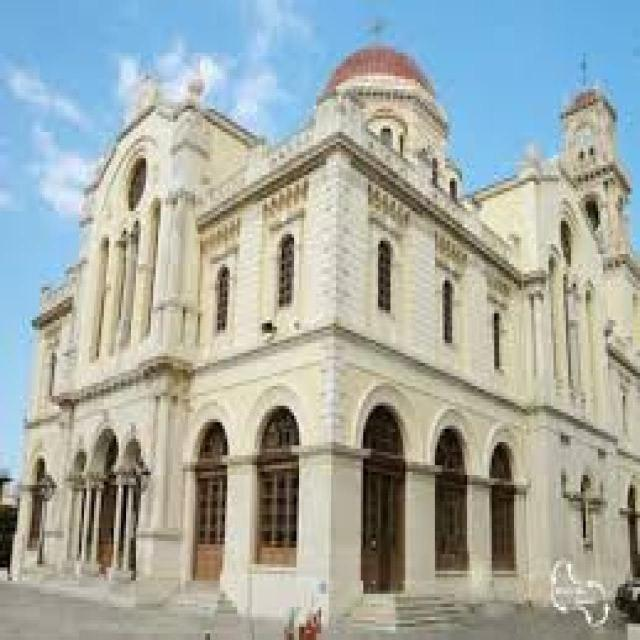Agios Minas: (13, 19, 640, 630)
